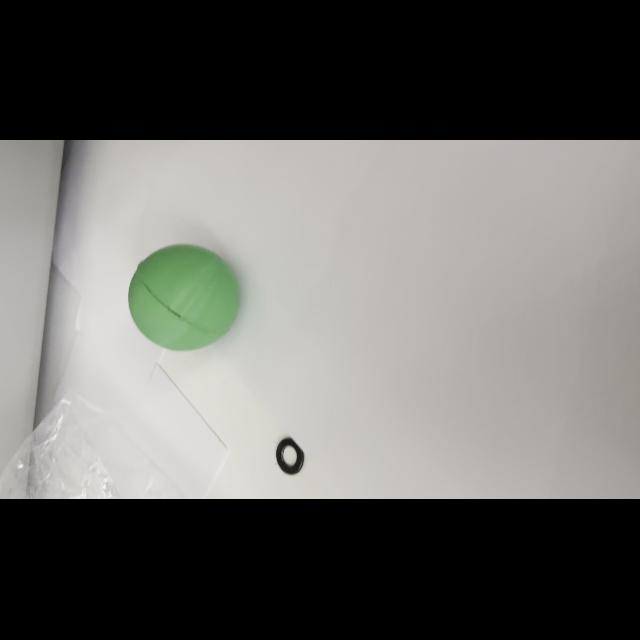objects: (124, 238, 242, 354)
